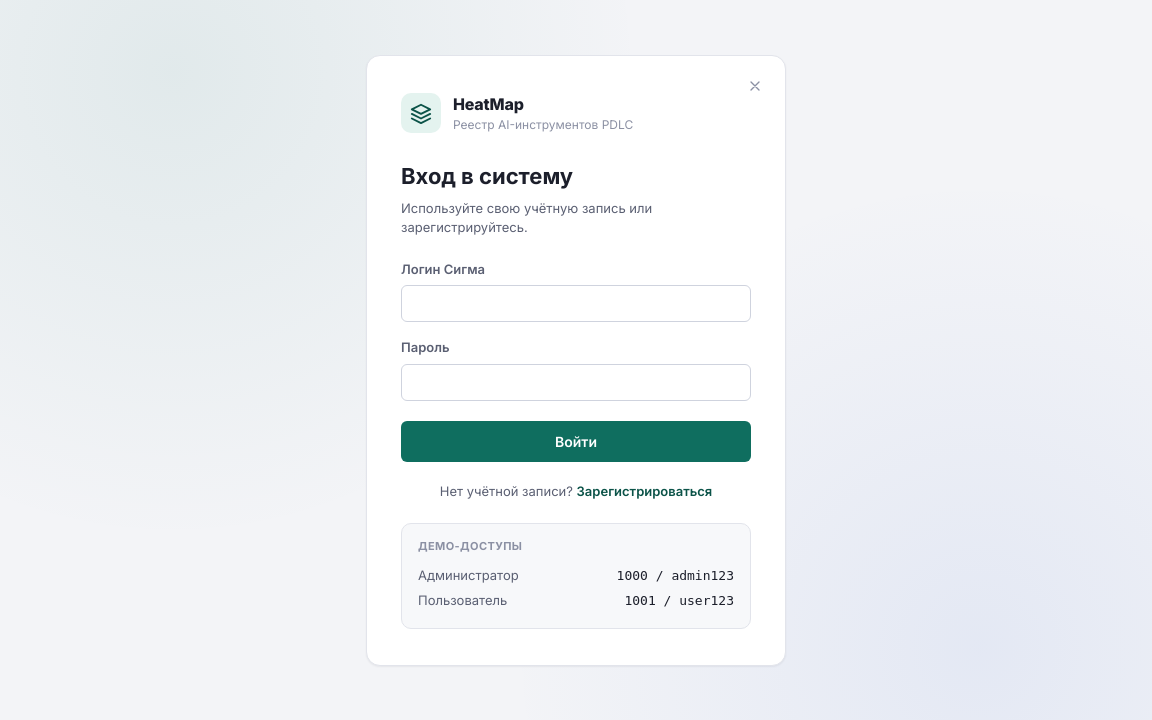
Test: LoginView › shows an error message and does not navigate when login fails
The image size is (1152, 720).
In the field with id "login": {"x": 576, "y": 304} [401,285,751,322], type "1000"
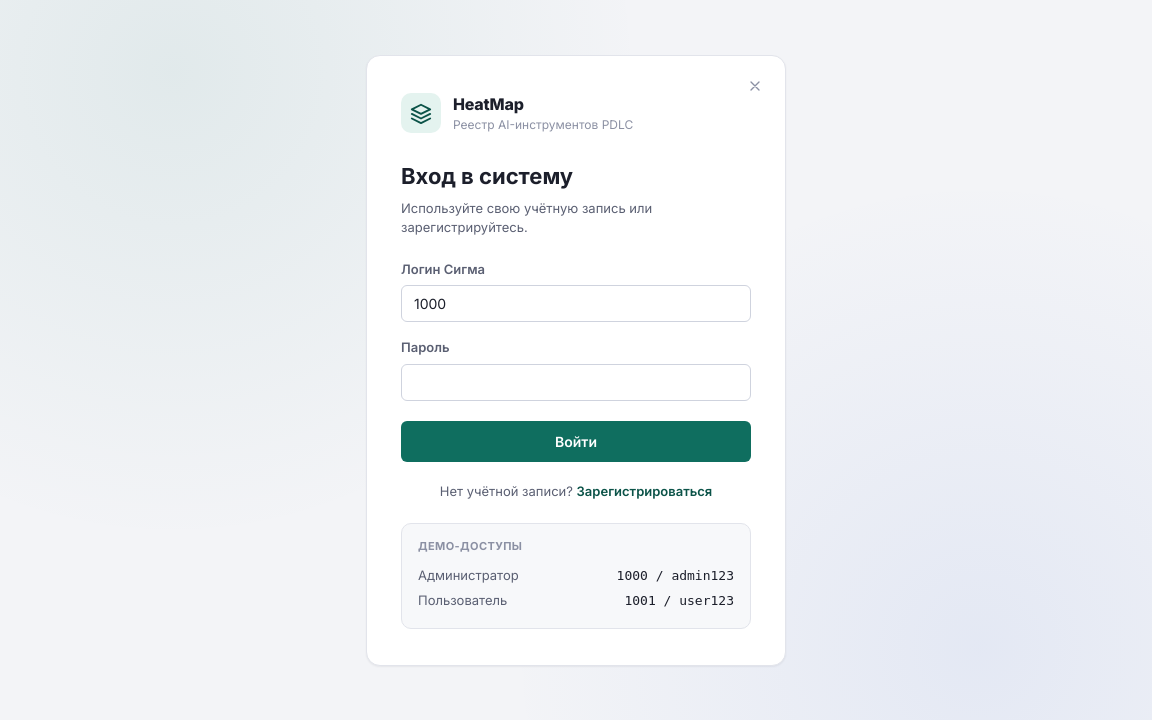
In the password field labelled "Пароль": {"x": 576, "y": 382} [401,364,751,400], type "wrong"
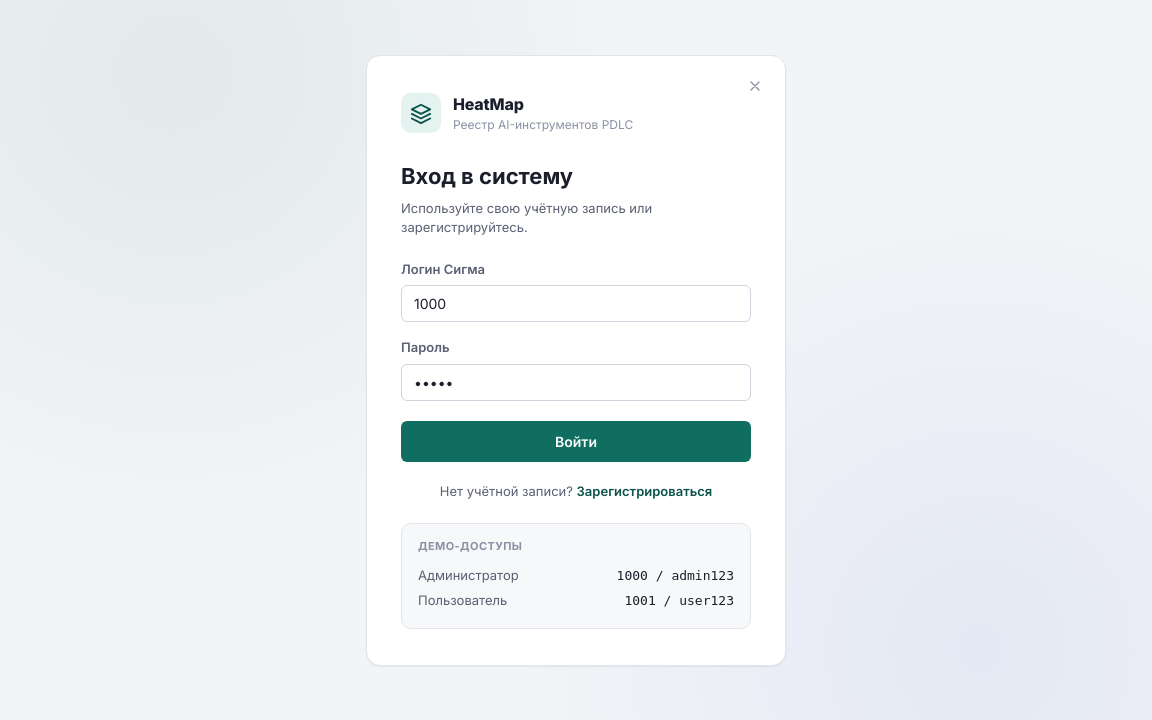
Submit the form, box [401,260,751,462]
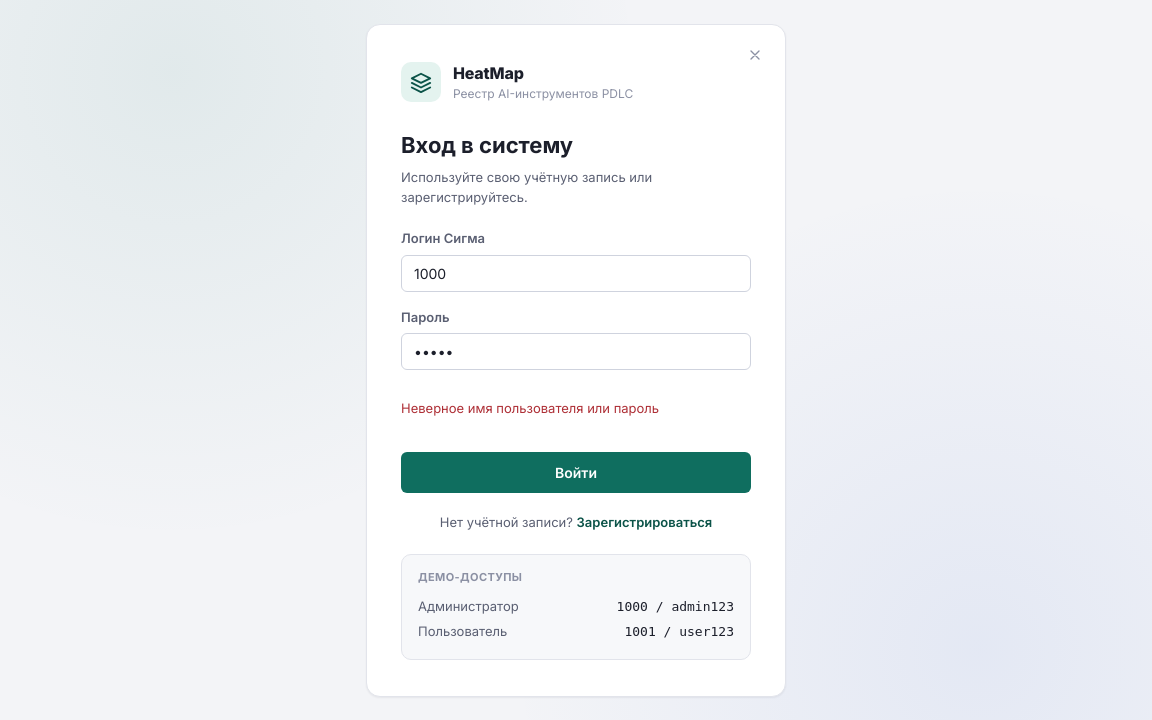
Expected: the text with class "error-text" reads "Неверное имя пользователя или пароль", [401,400,659,416]
